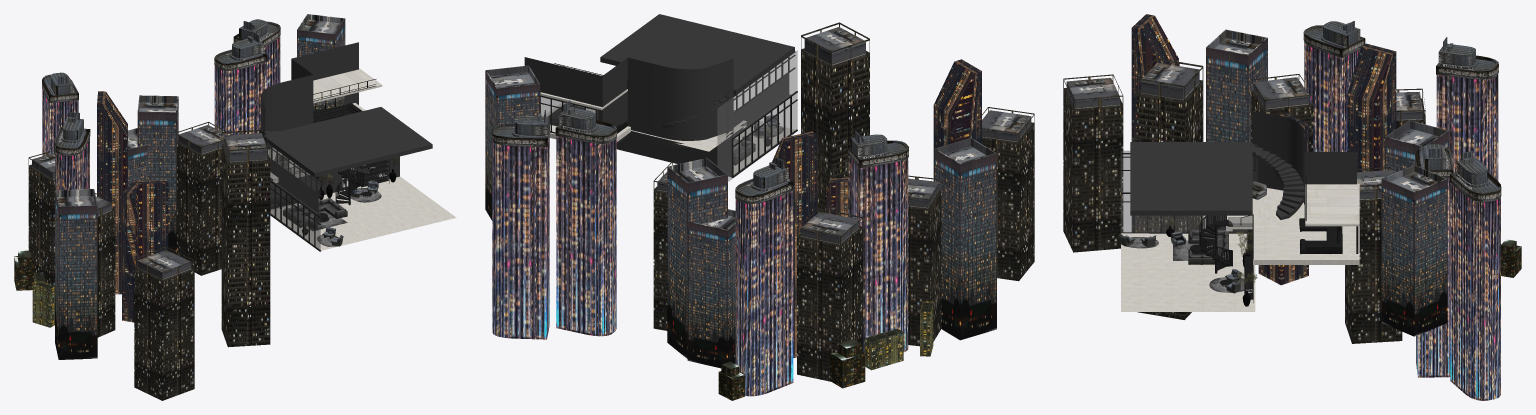
Rendered from apt_loft.glb.
The picture shows the model from 3 angles, left to right: view 1: azimuth 30°, elevation 25°; view 2: azimuth 150°, elevation 25°; view 3: azimuth 270°, elevation 25°; orthographic projection. The views are drawn at different scales.
Parts seen in each view (by area): view 1: loft; view 2: loft; view 3: loft.
Boxes of the visible parts, x1,y1,x2,y2 form: loft: (14,14,456,400); loft: (485,14,1034,400); loft: (1063,14,1521,400).
Size of the model in its own units: 37.19 by 19.26 by 33.93.
Materials: 21 (19 with a texture image).
